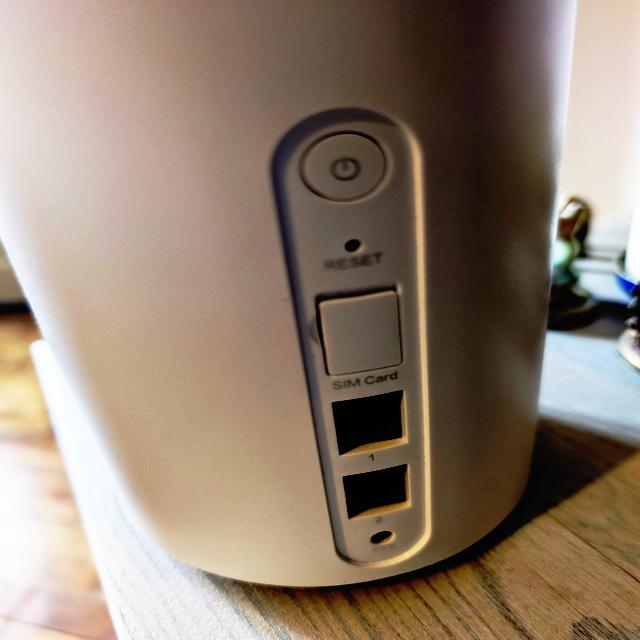lan: (328, 392, 412, 454), (343, 465, 418, 520)
modem: (0, 0, 576, 586)
onbutton: (295, 122, 395, 198)
pow: (343, 506, 424, 567)
sim: (308, 291, 416, 381)
